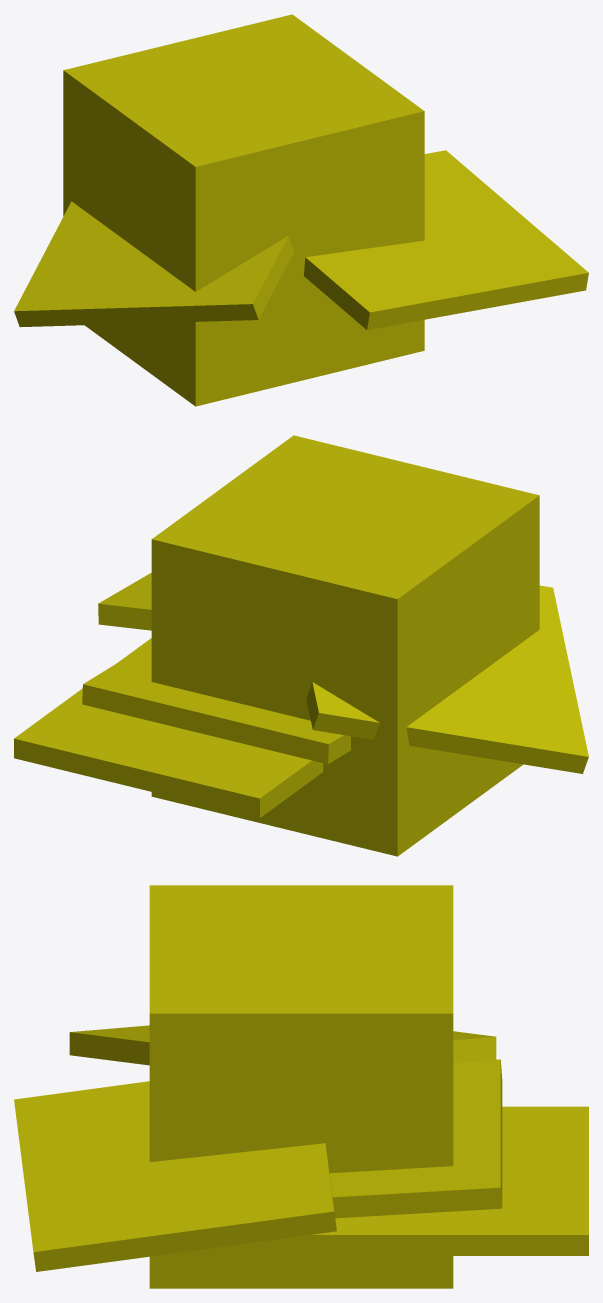
File: cheese_Obj.fbx
The picture shows the model from 3 angles, top to bottom: view 1: azimuth 30°, elevation 25°; view 2: azimuth 150°, elevation 25°; view 3: azimuth 270°, elevation 25°; orthographic projection. The views are drawn at different scales.
Visible parts, largest first — view 1: cheese, geo_Cheese_sliced3, geo_Cheese_sliced4; view 2: cheese, geo_Cheese_slice1, geo_Cheese_sliced4, geo_Cheese_slice2, geo_Cheese_sliced3; view 3: cheese, geo_Cheese_sliced3, geo_Cheese_slice1, geo_Cheese_slice2, geo_Cheese_sliced4.
Part boxes in pixels (box(x1,y1,x2,y2)): cheese: box(63, 14, 424, 406); geo_Cheese_sliced3: box(303, 150, 588, 329); geo_Cheese_sliced4: box(14, 201, 294, 327); cheese: box(151, 435, 539, 856); geo_Cheese_slice1: box(14, 638, 323, 818); geo_Cheese_sliced4: box(306, 585, 588, 773); geo_Cheese_slice2: box(82, 642, 350, 764); geo_Cheese_sliced3: box(98, 573, 151, 630); cheese: box(149, 885, 453, 1288); geo_Cheese_sliced3: box(14, 1081, 336, 1271); geo_Cheese_slice1: box(285, 1106, 588, 1255); geo_Cheese_slice2: box(329, 1059, 502, 1218); geo_Cheese_sliced4: box(69, 1025, 496, 1065).
Size of the model in its own units: 59.04 by 29.61 by 56.1.
